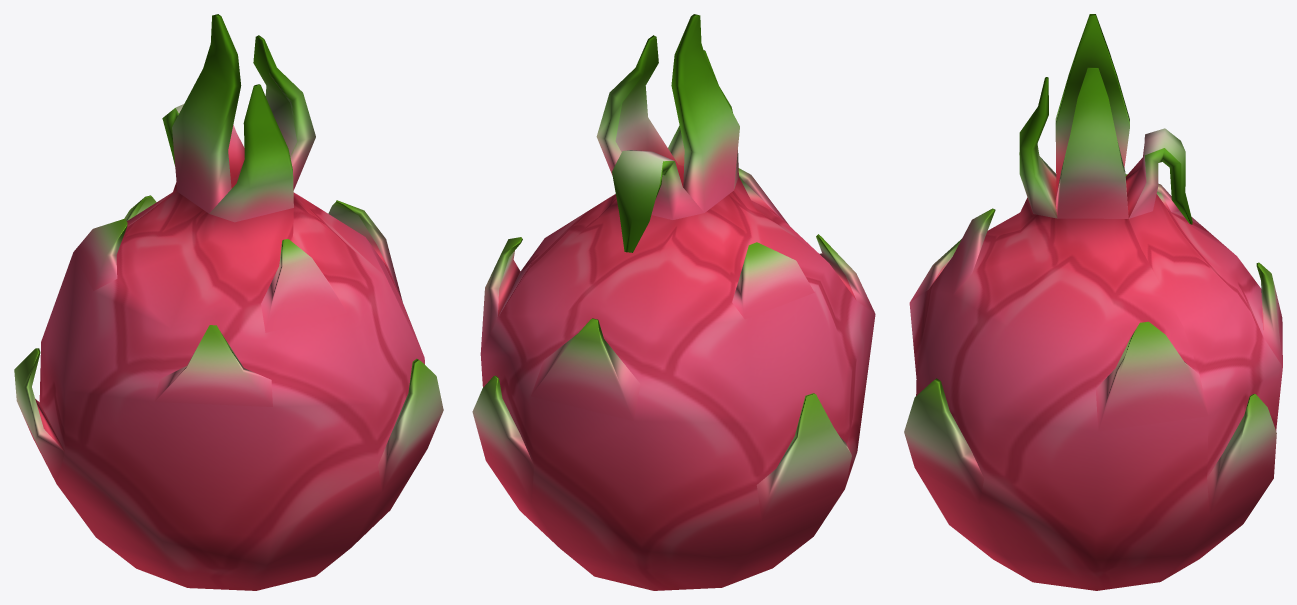
Rendered from Dragonfruit.fbx.
3 renders of one model, left to right at view 1: azimuth 30°, elevation 25°; view 2: azimuth 150°, elevation 25°; view 3: azimuth 270°, elevation 25°, orthographic. The views are drawn at different scales.
Visible parts, largest first — view 1: Dragonfruit; view 2: Dragonfruit; view 3: Dragonfruit.
Part boxes in pixels (<box>): Dragonfruit: <box>14,14,443,590</box>; Dragonfruit: <box>472,14,875,590</box>; Dragonfruit: <box>904,14,1282,590</box>.
Bounding box in the file's own units: 39.01 × 59.3 × 36.64.
